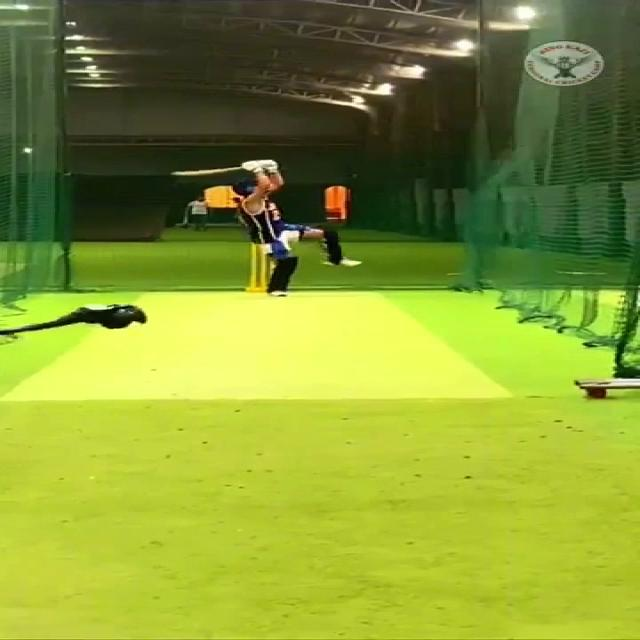batsman: (170, 156, 367, 298)
